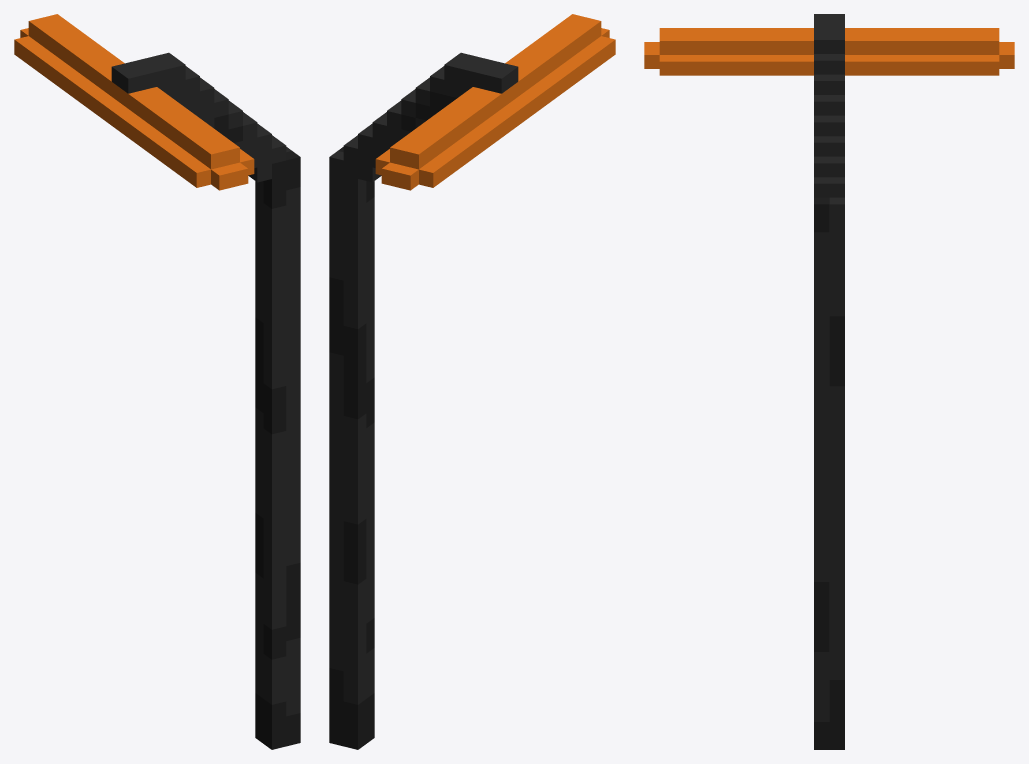
The model's file is Streetlight0.obj.
3 renders of one model, left to right at view 1: azimuth 30°, elevation 25°; view 2: azimuth 150°, elevation 25°; view 3: azimuth 270°, elevation 25°, orthographic. The views are drawn at different scales.
Bounding box in the file's own units: 1.3 × 4.7 × 2.4.
1 material, 1 textured.
